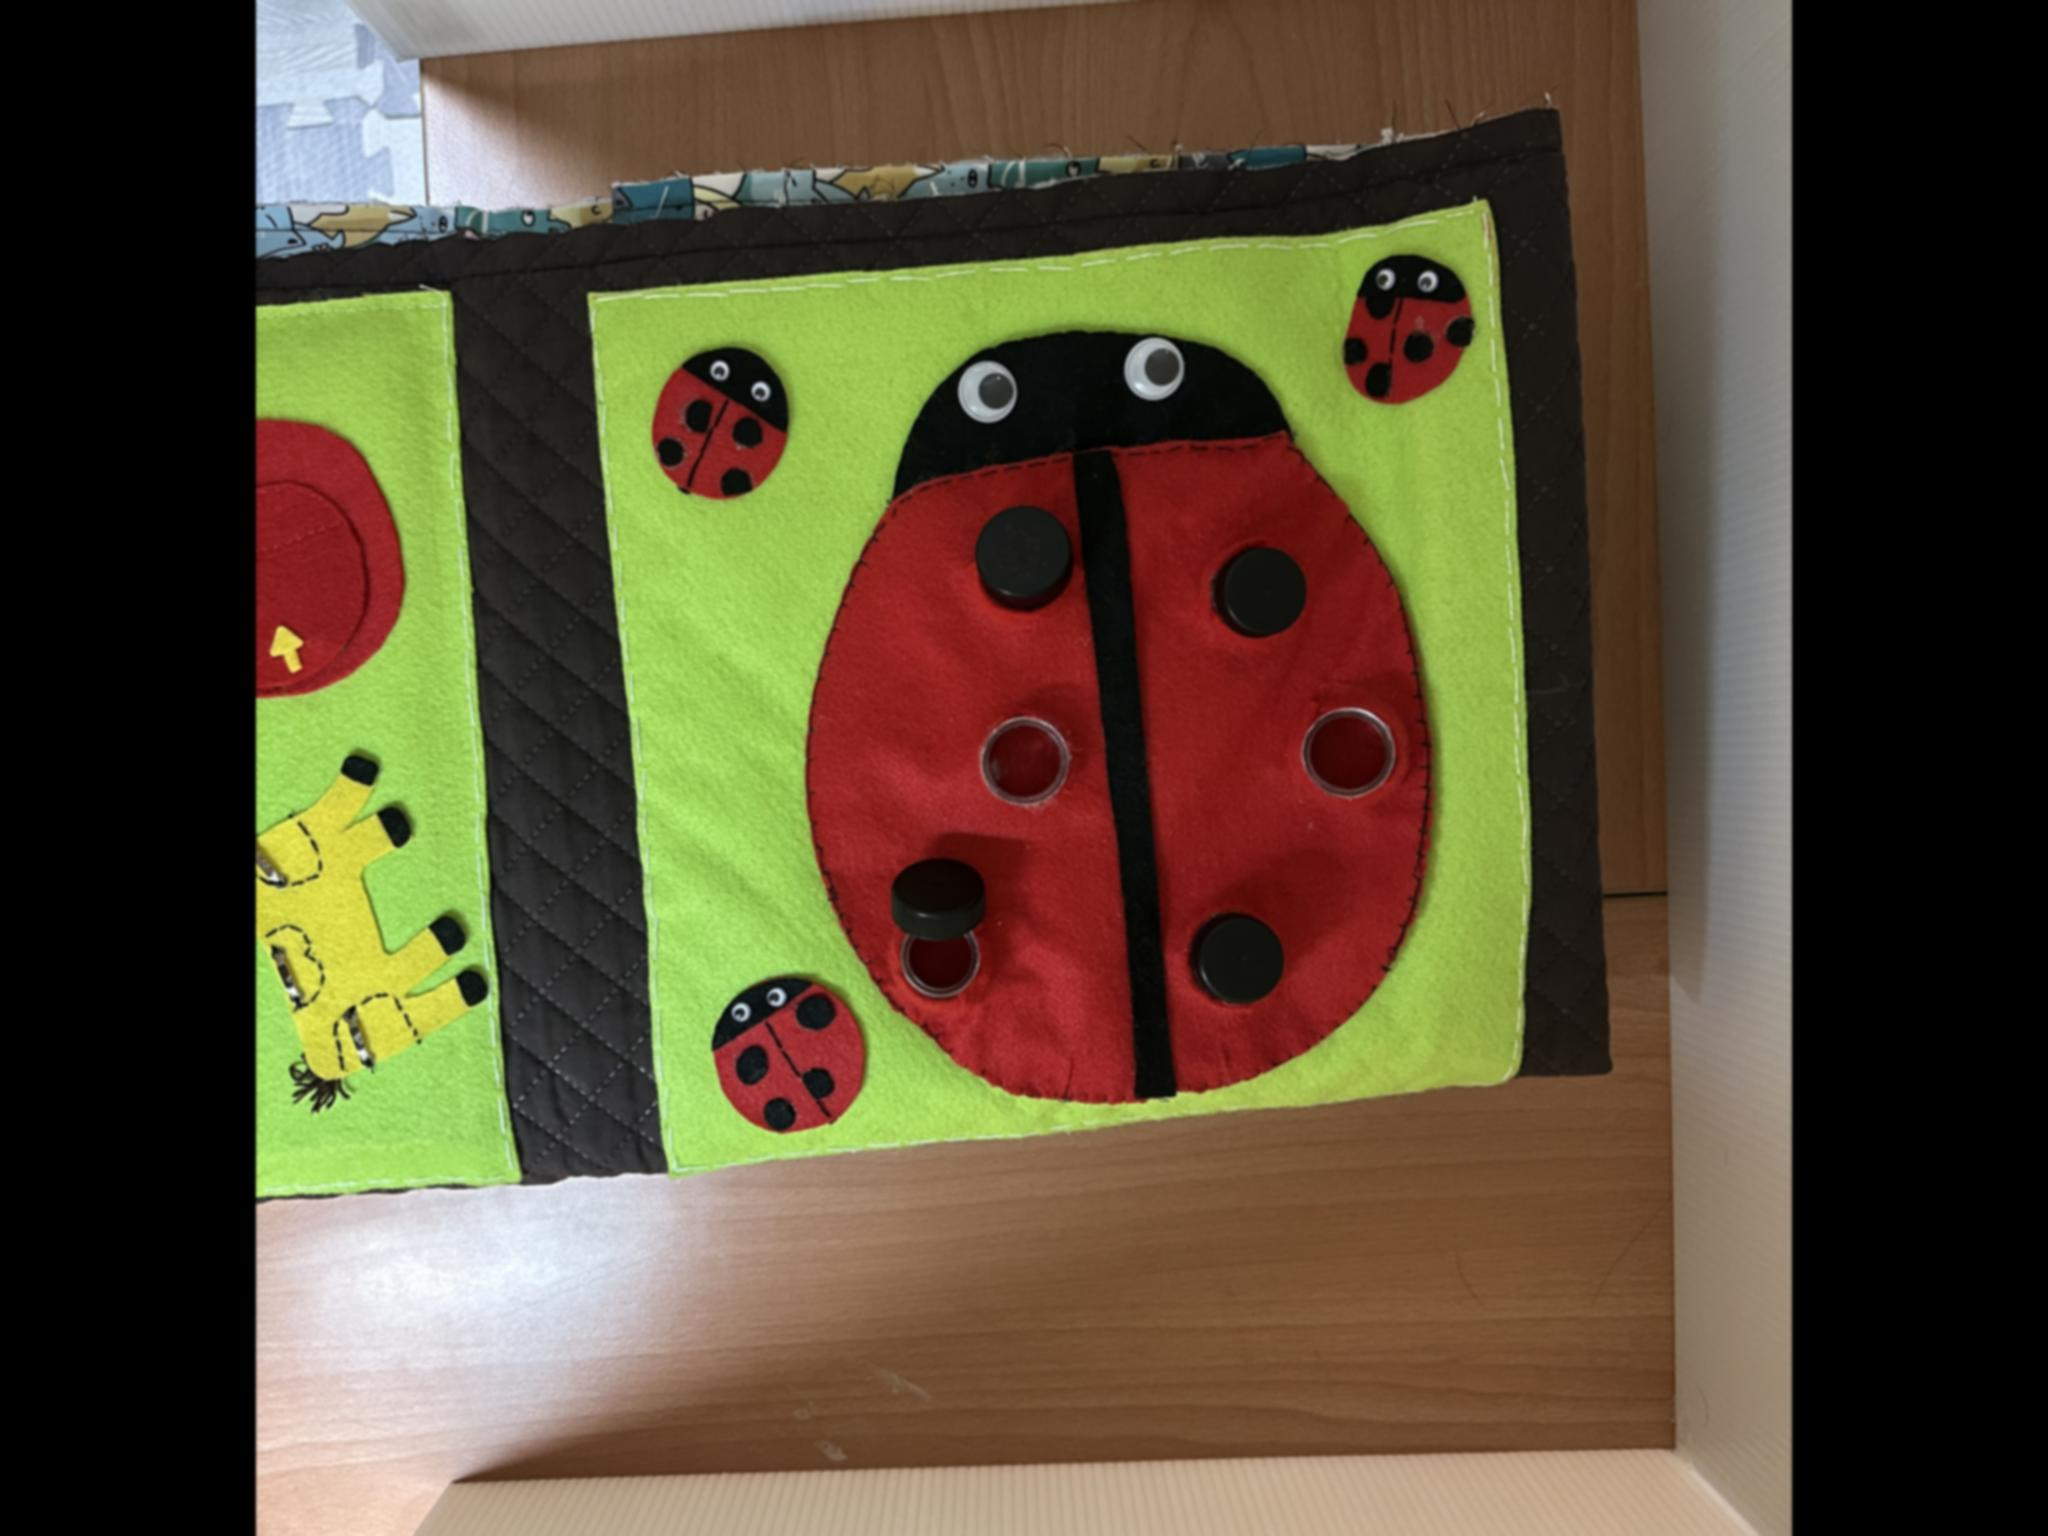cap_ng: (858, 839, 1008, 1025)
cap_ok: (1161, 870, 1306, 1042), (1192, 507, 1327, 668), (947, 489, 1093, 637)
